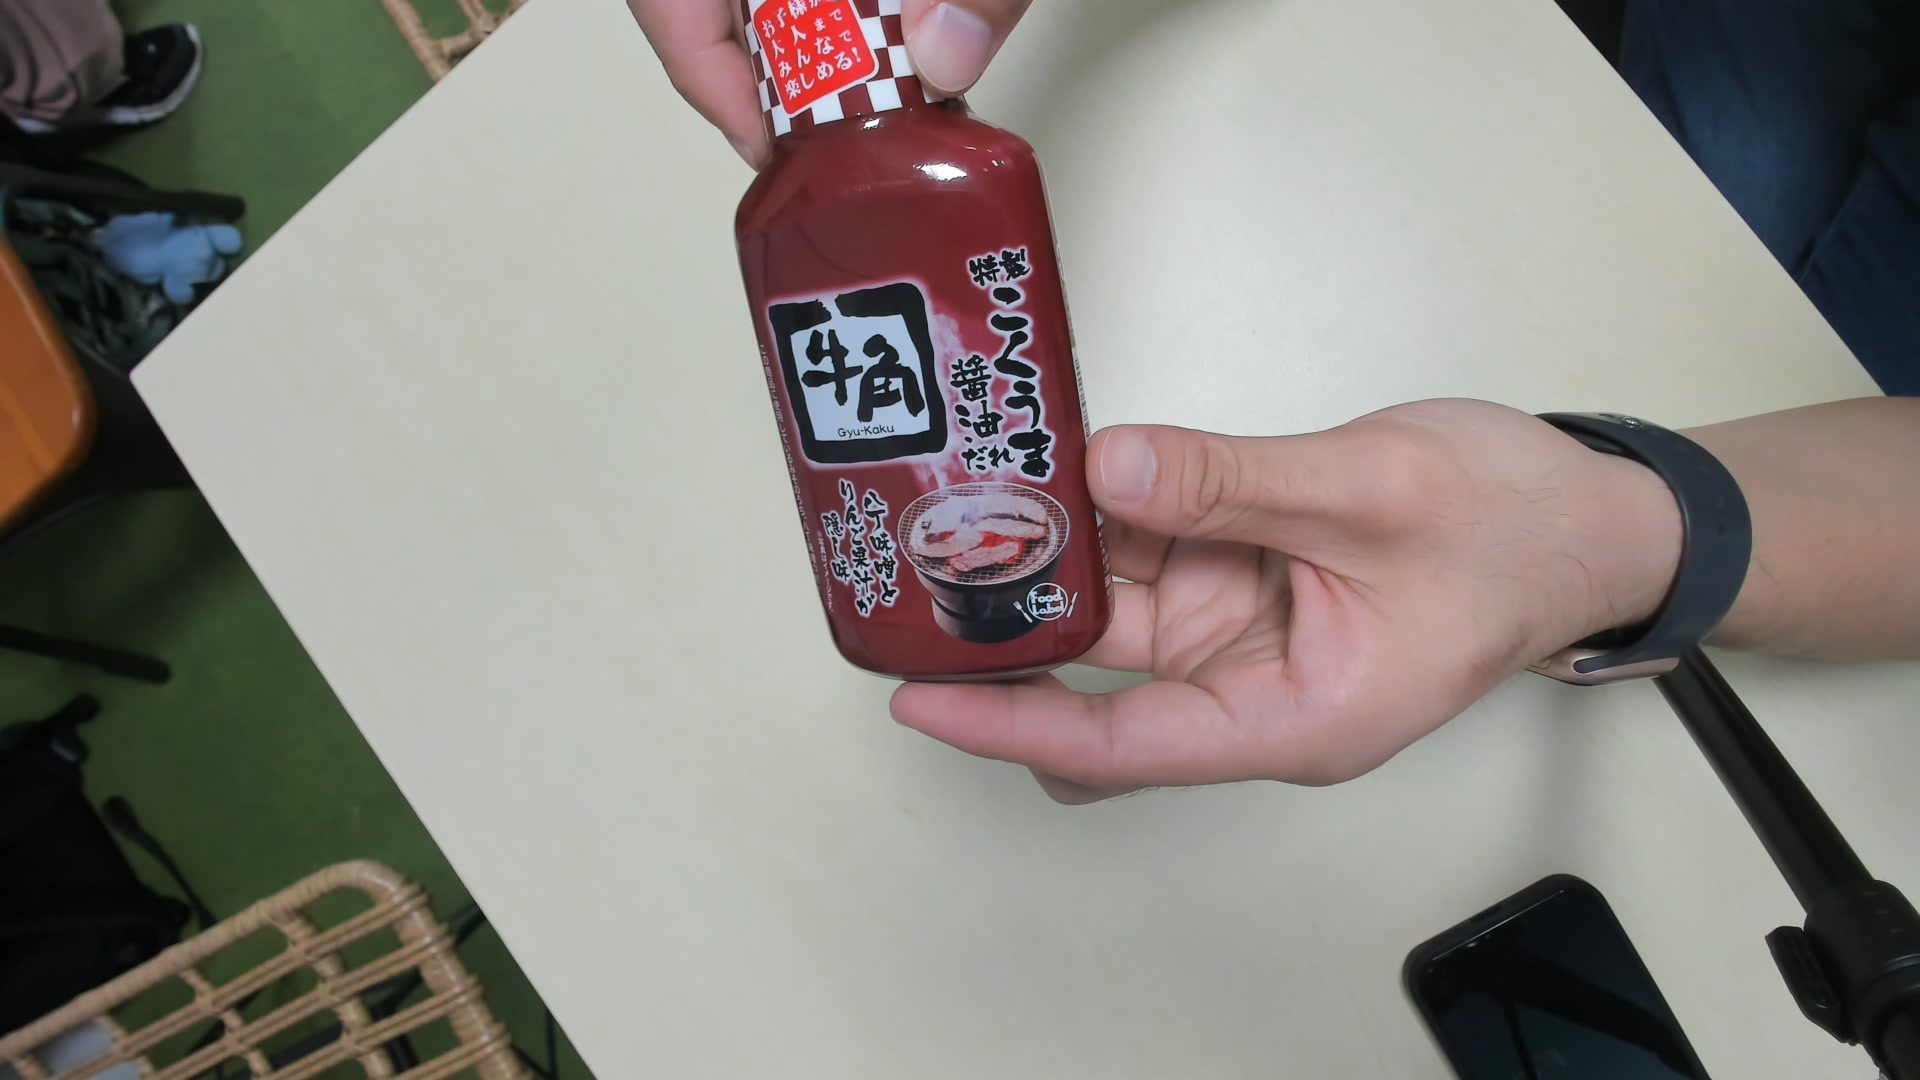OtherSauceDressing_200-299g_NonHalal_NonHealthy: (724, 3, 1113, 694)
